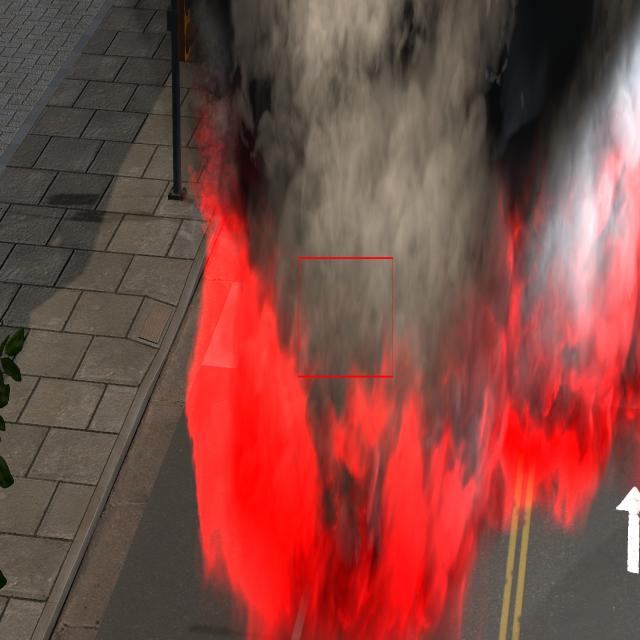Human: (300, 262, 393, 377)
